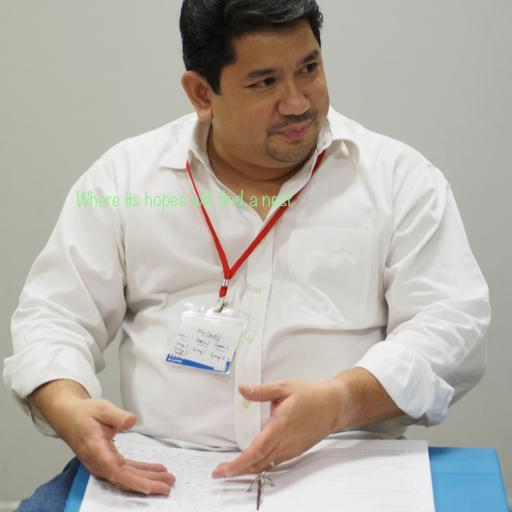Noteworthy: (76, 189, 292, 213)
